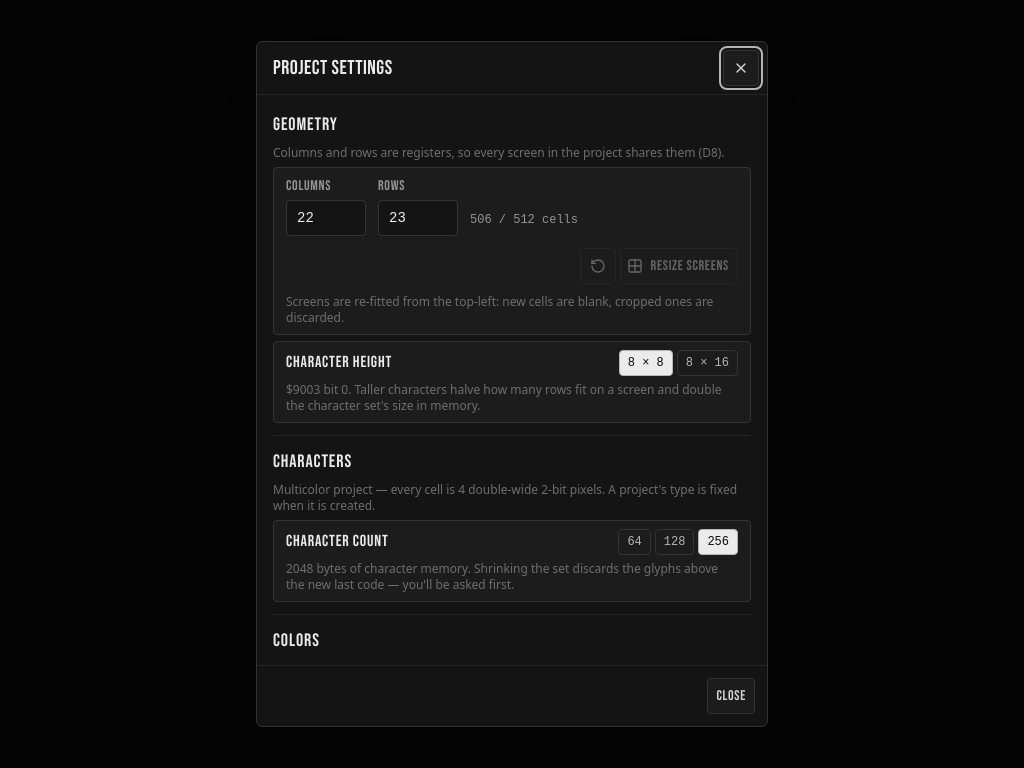
ProjectSettingsDialog › geometry (D8, D9) › shows the color RAM budget as the geometry is typed
This screenshot has width=1024, height=768.
Replace the text in the number field named "Columns" with "20" at (326, 218), box [286,200,366,236]
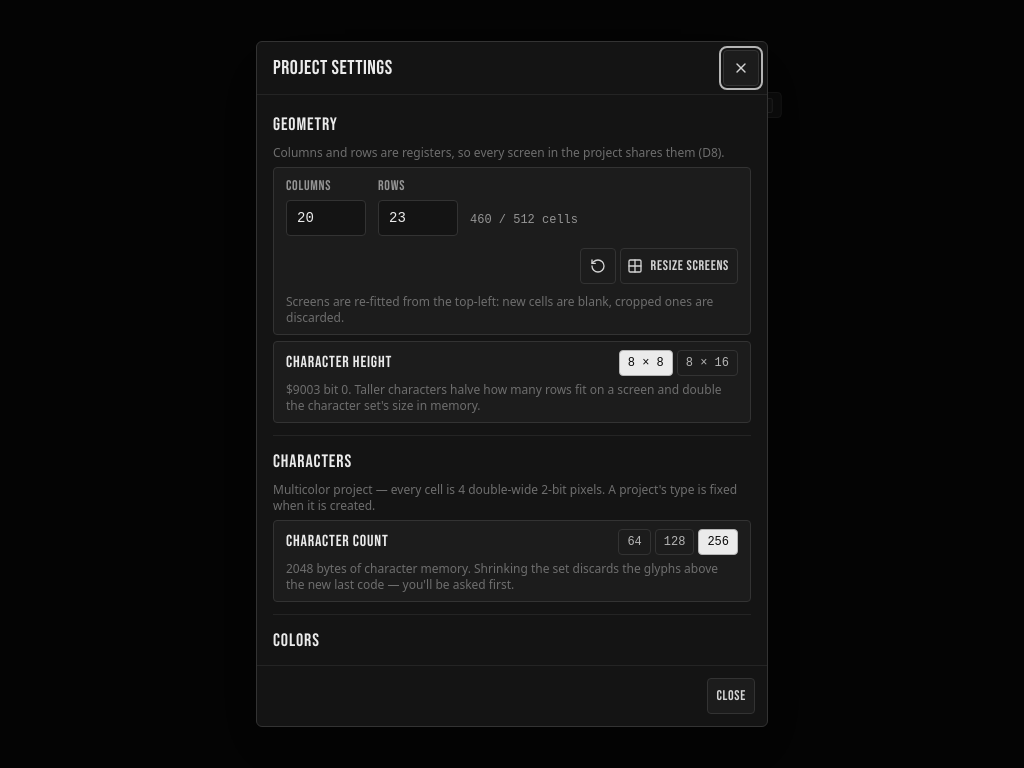
Result: the text "460 / 512 cells" is shown at [470,212,578,228]
